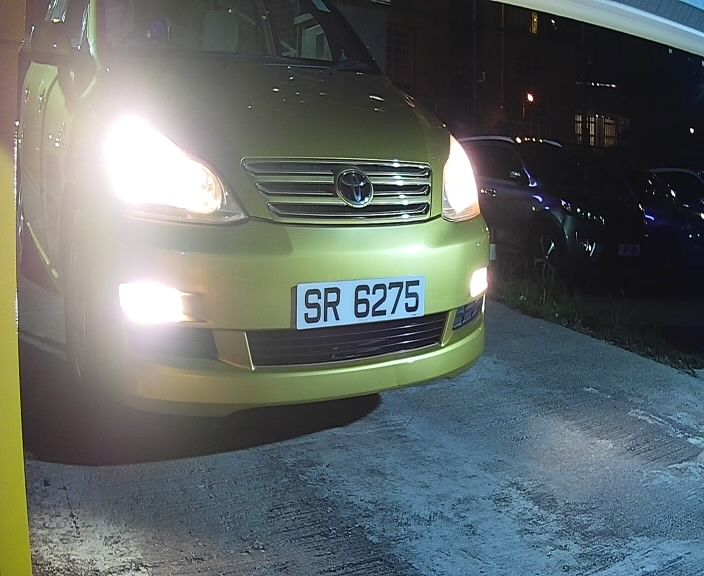Car: (15, 2, 504, 450)
License Plate: (291, 270, 432, 341)
